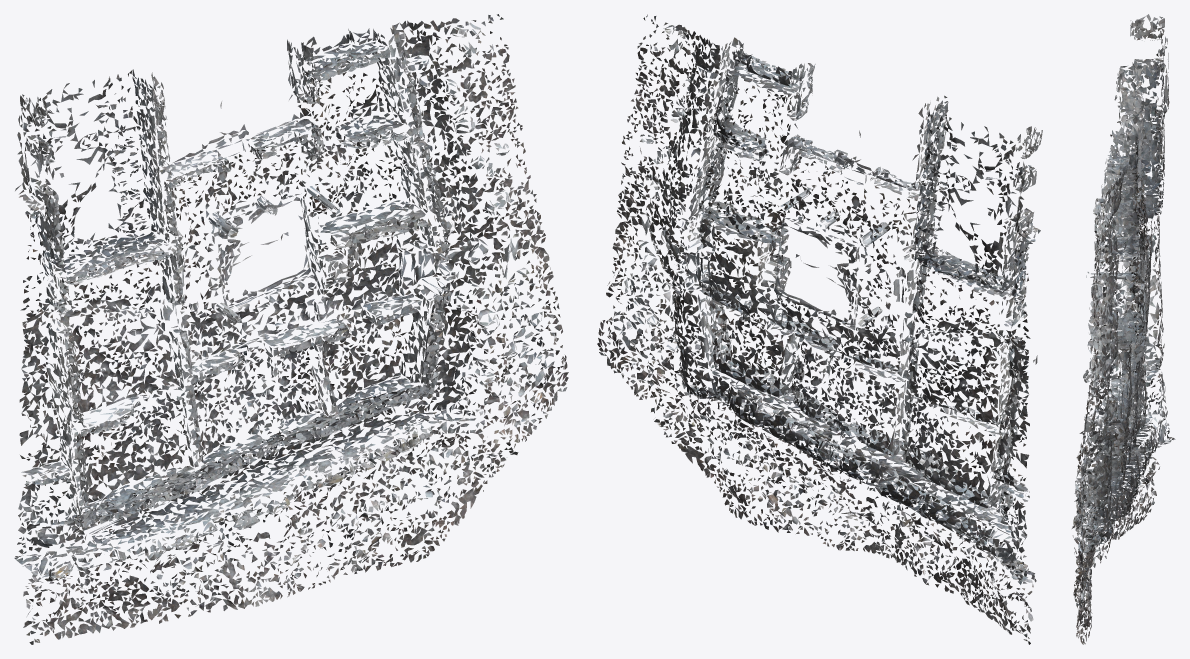
3 views of the same model, side by side, from view 1: azimuth 30°, elevation 25°; view 2: azimuth 150°, elevation 25°; view 3: azimuth 270°, elevation 25° (orthographic). The views are drawn at different scales.
Bounding box in the file's own units: 26.73 × 27.67 × 5.26.
Materials: 1 (1 with a texture image).
